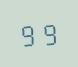nine: (19, 21, 38, 47), (39, 20, 58, 45)
